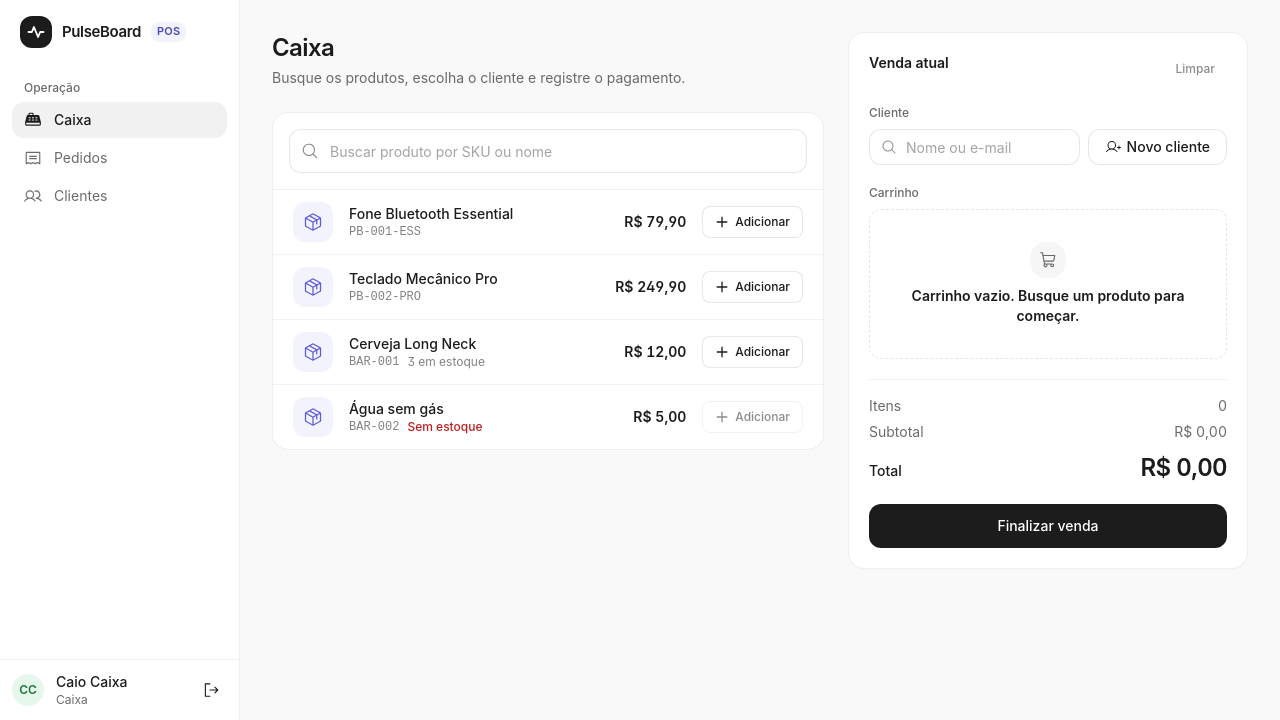
Scenario: checkout › validates the cart before opening the payment
Click the button "Finalizar venda" at (1048, 526), box [869, 504, 1227, 548]
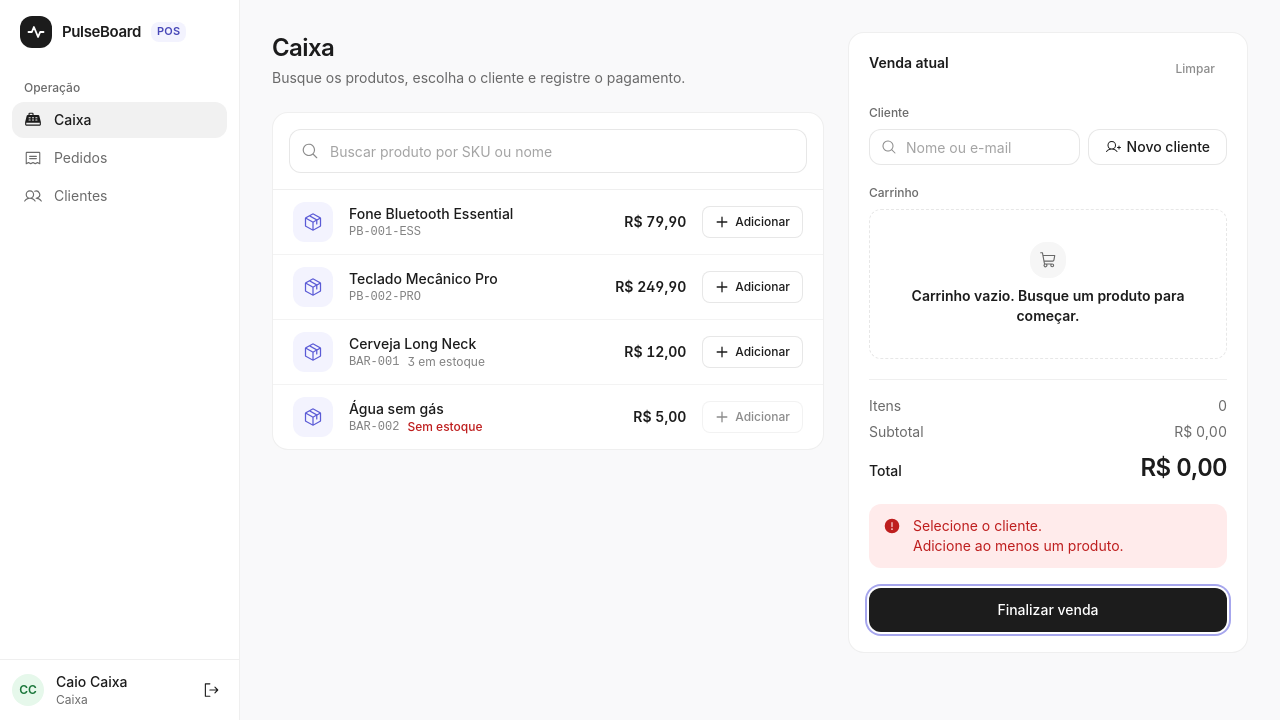
Check: the message shows "Selecione o cliente.", box [913, 517, 1042, 534]
Check: the message shows "Adicione ao menos um produto.", box [913, 537, 1124, 554]
